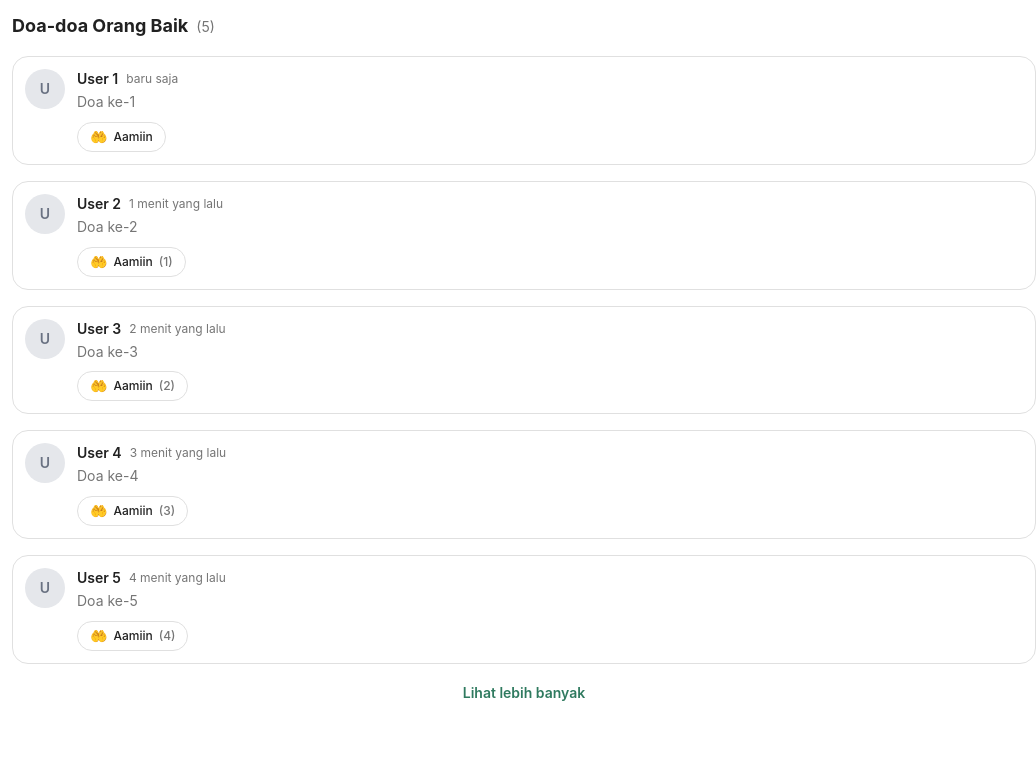
Test: CampaignPrayers › loads more prayers when "Lihat lebih banyak" is clicked
Click the button "Lihat lebih banyak": (524, 693) x1=463 y1=683 x2=585 y2=703
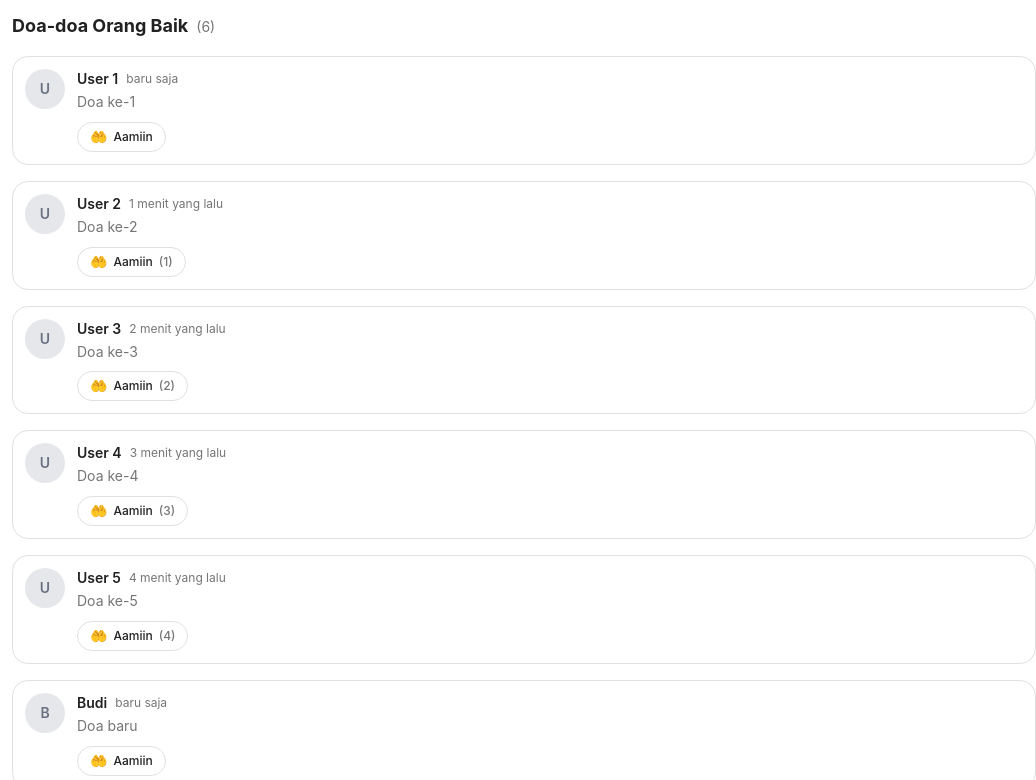
expect the text "Doa baru" is shown: met, box x1=77 y1=717 x2=138 y2=734
